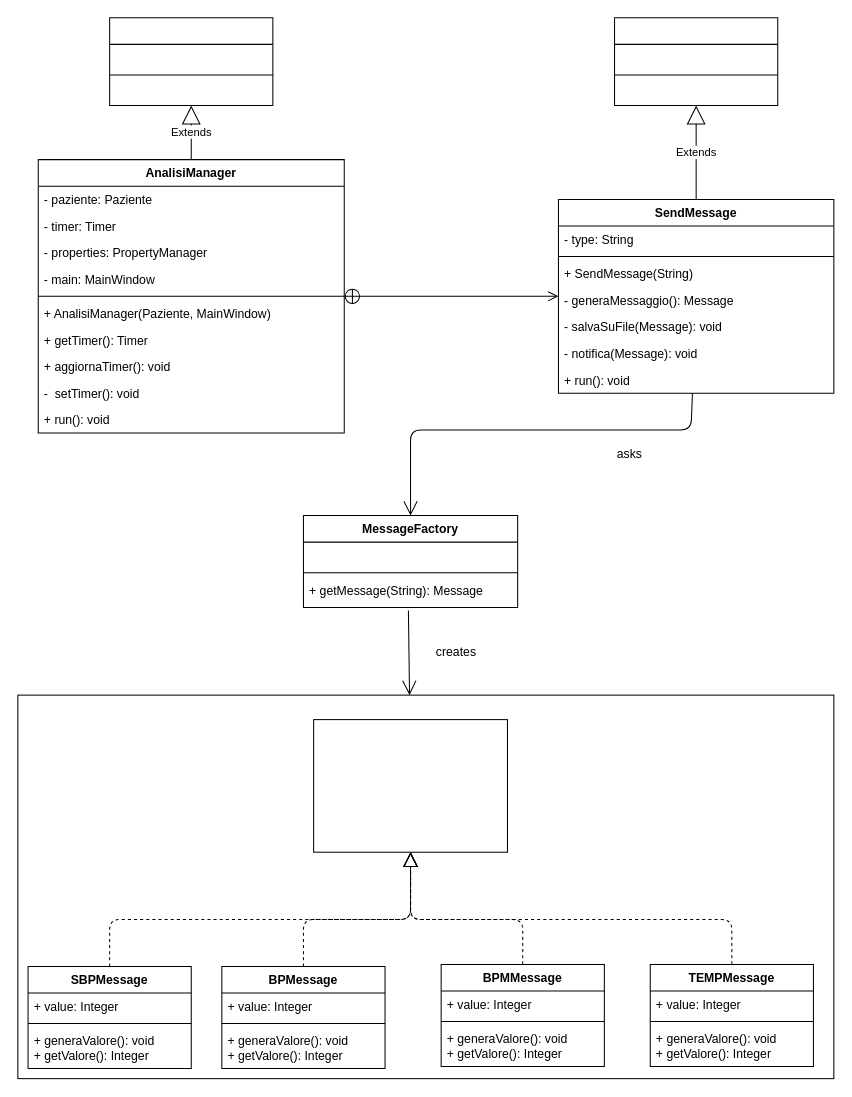
Image size: 852x1097. Some labels were removed from this diagram. The shapes that lost their labels are listed below. From the top down, each one's centre as x and y in pixels, then its label:
point (191, 61): Thread
point (696, 61): TimerTask
point (410, 785): <<Interface>> Message + generaValore(): void + getValore(): Integer
